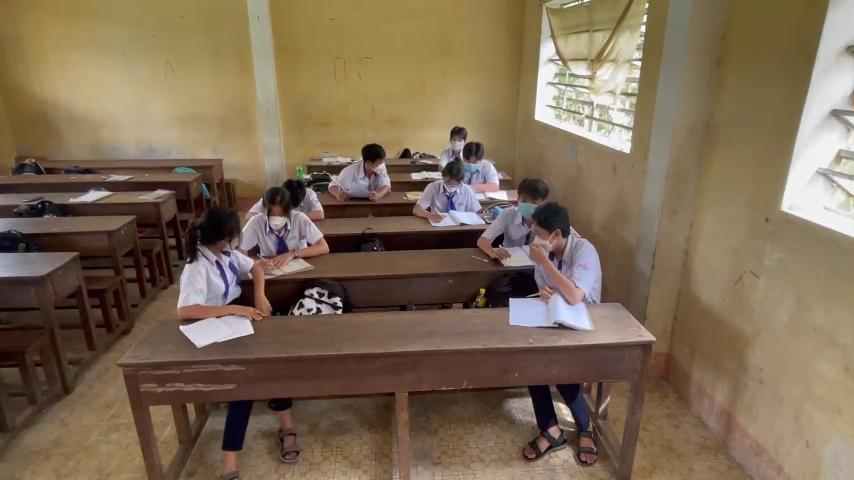Look Around: (176, 200, 246, 263), (524, 195, 572, 253), (348, 140, 392, 183)
Wave: (517, 240, 588, 309), (460, 183, 485, 220)
